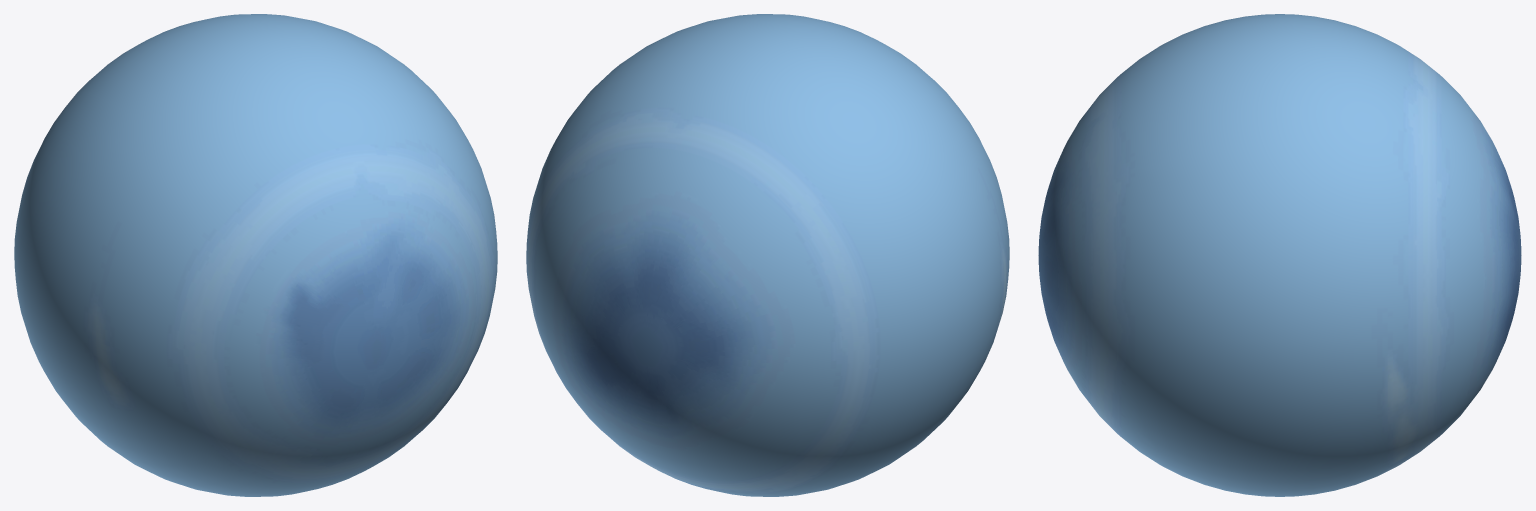
File: uranus_planet_model.fbx
3 renders of one model, left to right at view 1: azimuth 30°, elevation 25°; view 2: azimuth 150°, elevation 25°; view 3: azimuth 270°, elevation 25°, orthographic.
Parts seen in each view (by area): view 1: uranus_planet_model; view 2: uranus_planet_model; view 3: uranus_planet_model.
Part boxes in pixels (x1,y1,x2,y2): uranus_planet_model: (14, 14, 497, 496); uranus_planet_model: (526, 14, 1009, 496); uranus_planet_model: (1038, 14, 1521, 496).
Size of the model in its own units: 100 by 100 by 100.
1 material, 1 textured.
